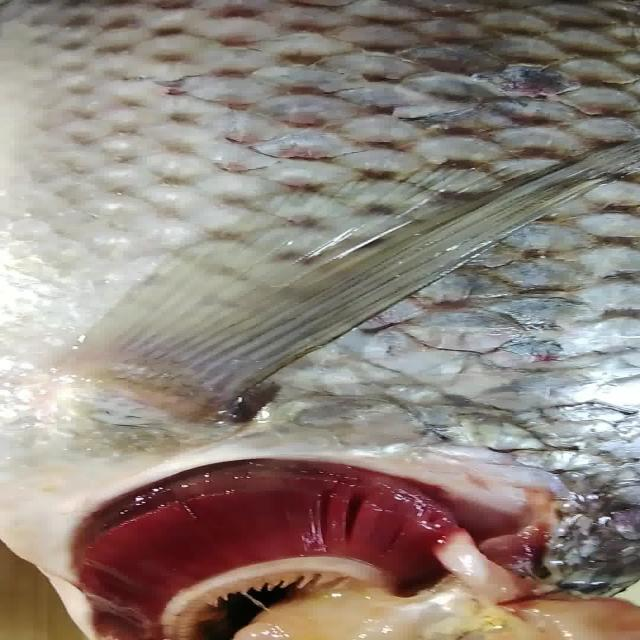Fresh: (34, 447, 479, 616)
